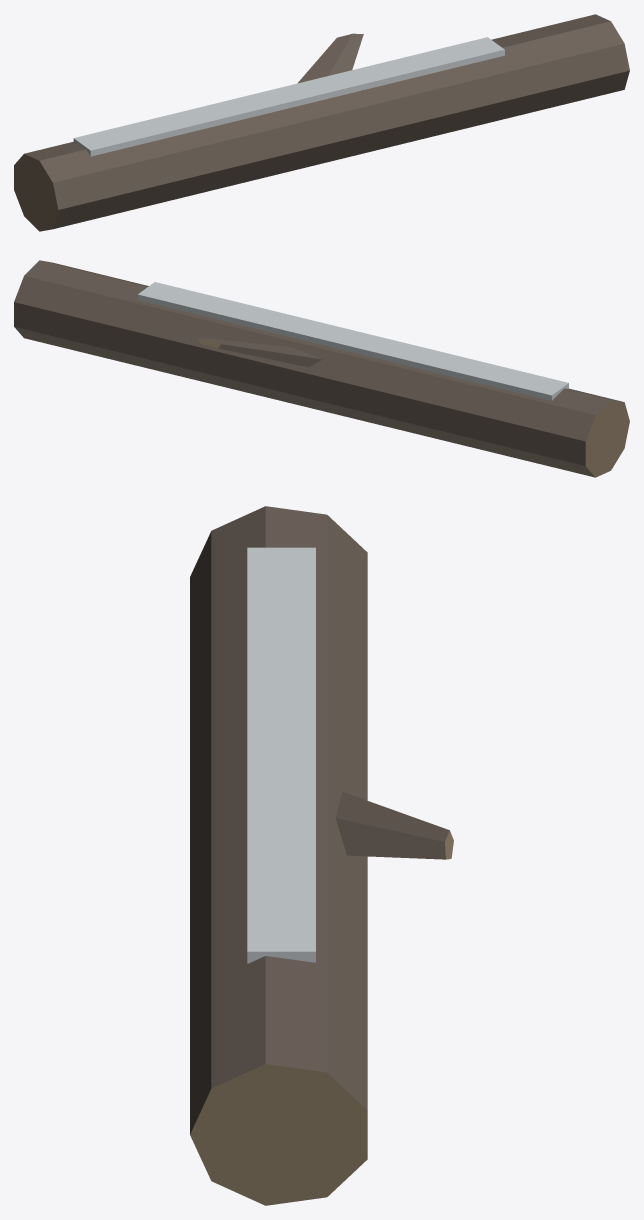
Rendered from fallen_log.glb.
The picture shows the model from 3 angles, top to bottom: view 1: azimuth 30°, elevation 25°; view 2: azimuth 150°, elevation 25°; view 3: azimuth 270°, elevation 25°; orthographic projection. The views are drawn at different scales.
Parts seen in each view (by area): view 1: fallen_log; view 2: fallen_log; view 3: fallen_log.
Boxes of the visible parts, x1,y1,x2,y2 form: fallen_log: (14,14,629,231); fallen_log: (14,260,629,477); fallen_log: (190,506,453,1205).
Size of the model in its own units: 5 by 0.65 by 1.
